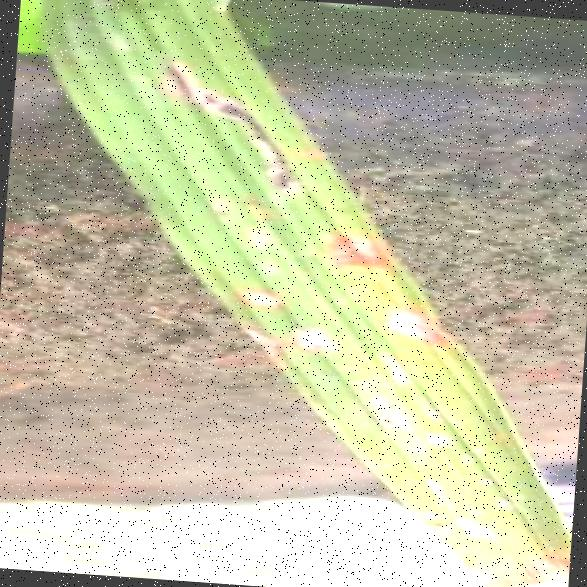Leaf_smut: (147, 42, 314, 188), (368, 286, 457, 354), (259, 305, 347, 368), (324, 212, 395, 280), (237, 262, 298, 326)
